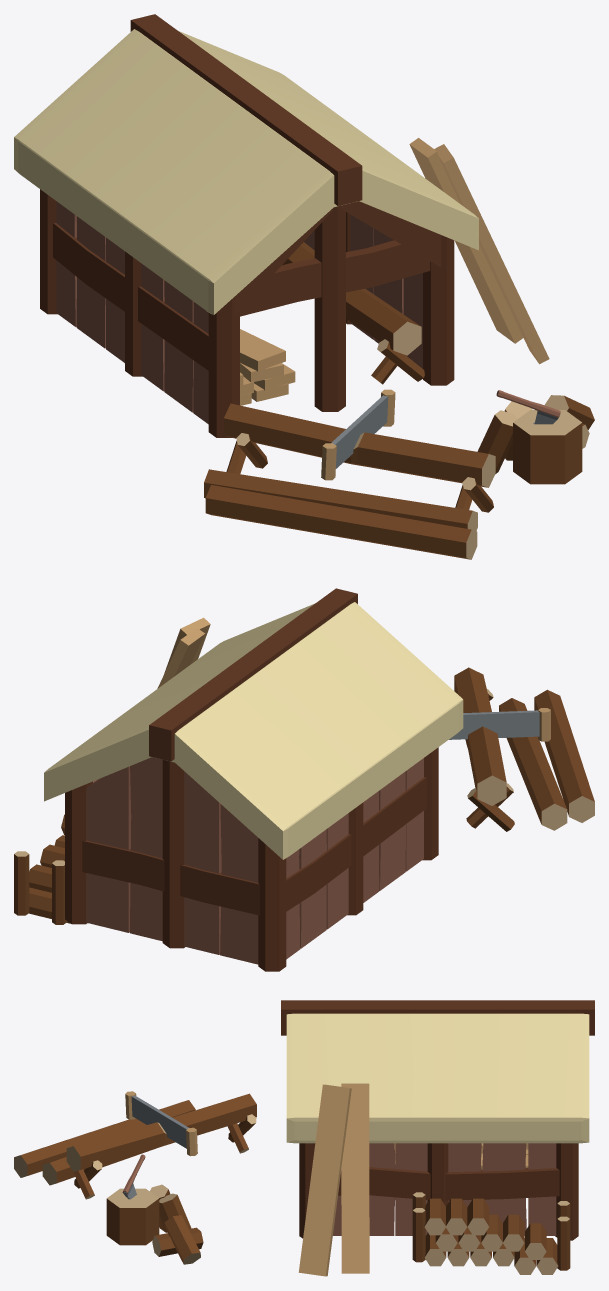
File: House_4.fbx
3 renders of one model, top to bottom at view 1: azimuth 30°, elevation 25°; view 2: azimuth 150°, elevation 25°; view 3: azimuth 270°, elevation 25°, orthographic. The views are drawn at different scales.
Visible parts, largest first — view 1: lumberyard; view 2: lumberyard; view 3: lumberyard.
Boxes of the visible parts, bbox=[...] form: lumberyard: bbox=[14, 14, 594, 559]; lumberyard: bbox=[14, 588, 594, 971]; lumberyard: bbox=[14, 1000, 594, 1276].
Size of the model in its own units: 395 by 237 by 612.
